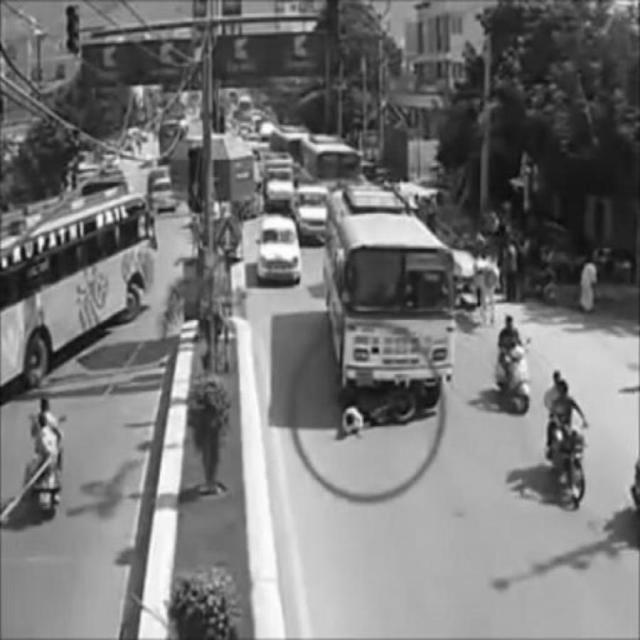accident: (328, 185, 458, 437)
vehicle: (1, 186, 158, 388), (547, 372, 587, 496), (25, 394, 63, 518), (496, 313, 530, 417), (261, 216, 303, 286)
